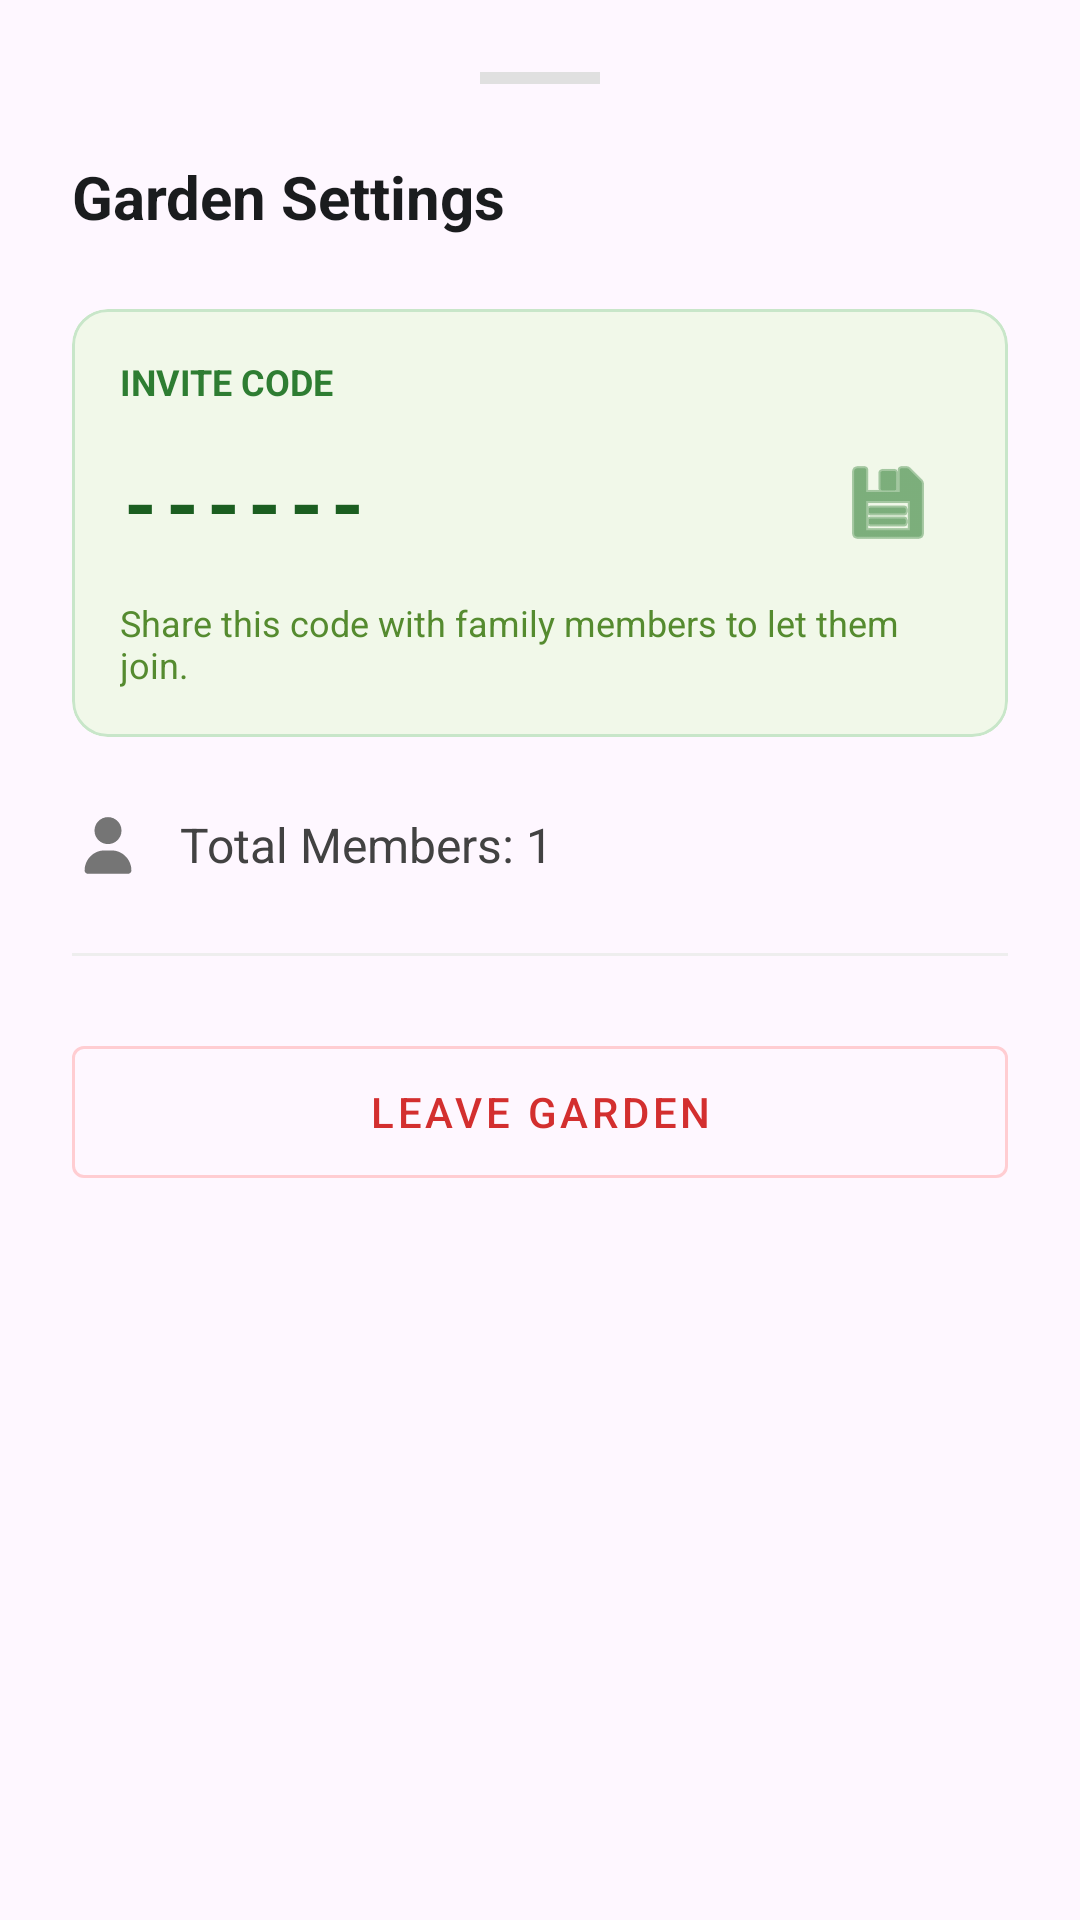

Where icons sit on this 1080px x 1920px app screen, as (x1, y1, x2, y2):
save: (852, 466, 924, 539)
user full: (84, 817, 132, 874)
